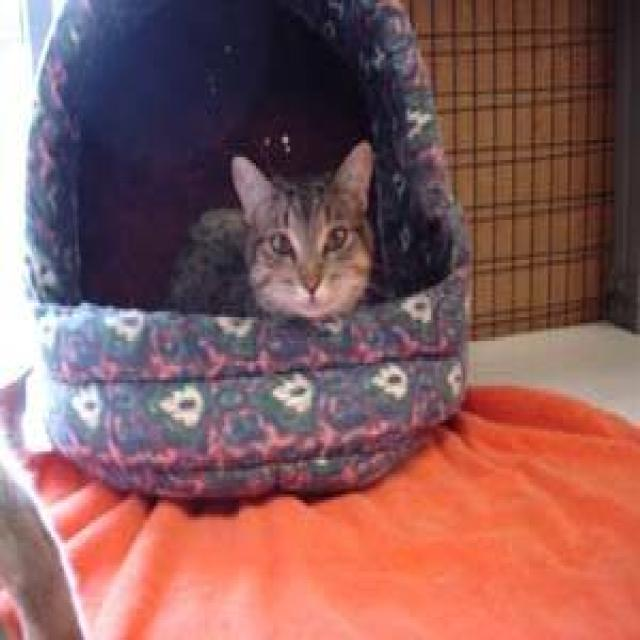cat: (166, 137, 378, 323)
